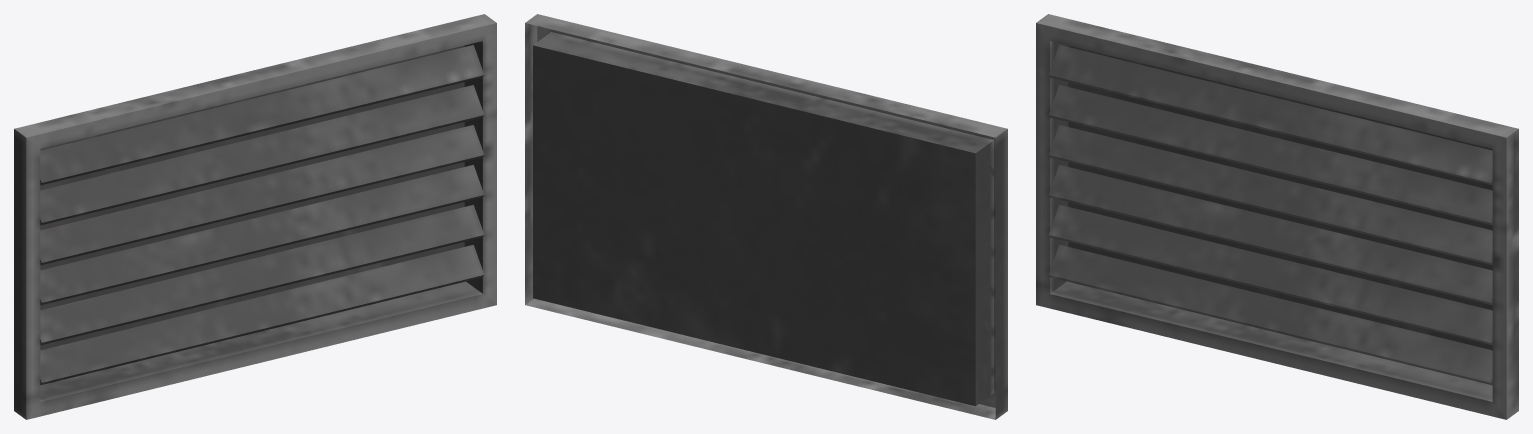
The model's file is SM_Vent.fbx.
3 views of the same model, side by side, from view 1: azimuth 30°, elevation 25°; view 2: azimuth 150°, elevation 25°; view 3: azimuth 330°, elevation 25° (orthographic).
Parts seen in each view (by area): view 1: SM_Vent; view 2: SM_Vent; view 3: SM_Vent.
Part boxes in pixels (x1,y1,x2,y2): SM_Vent: (14,14,496,419); SM_Vent: (525,14,1007,419); SM_Vent: (1036,14,1518,419).
Size of the model in its own units: 0.4235 by 0.0307 by 0.2427.
